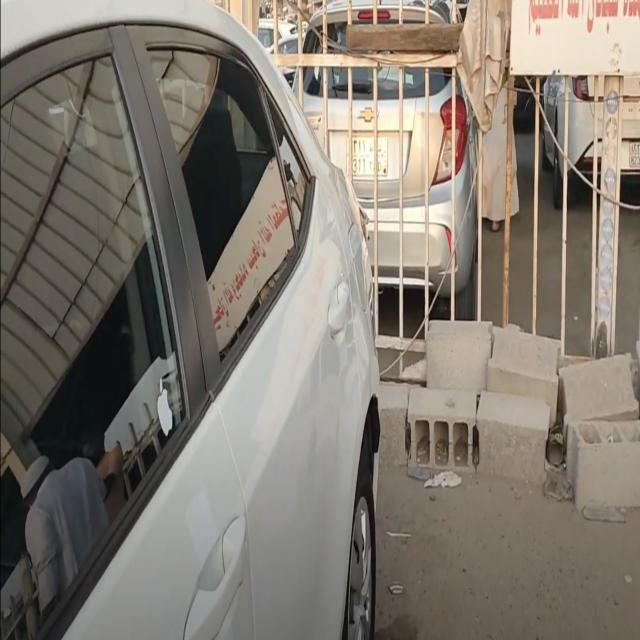license_plate: (344, 128, 390, 184), (630, 140, 640, 166)
